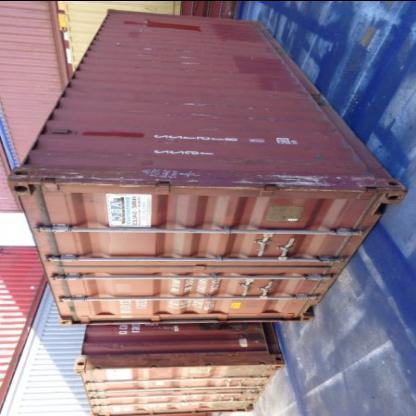Damage: (238, 170, 340, 189), (172, 38, 206, 73), (57, 168, 96, 186), (138, 44, 164, 60)
